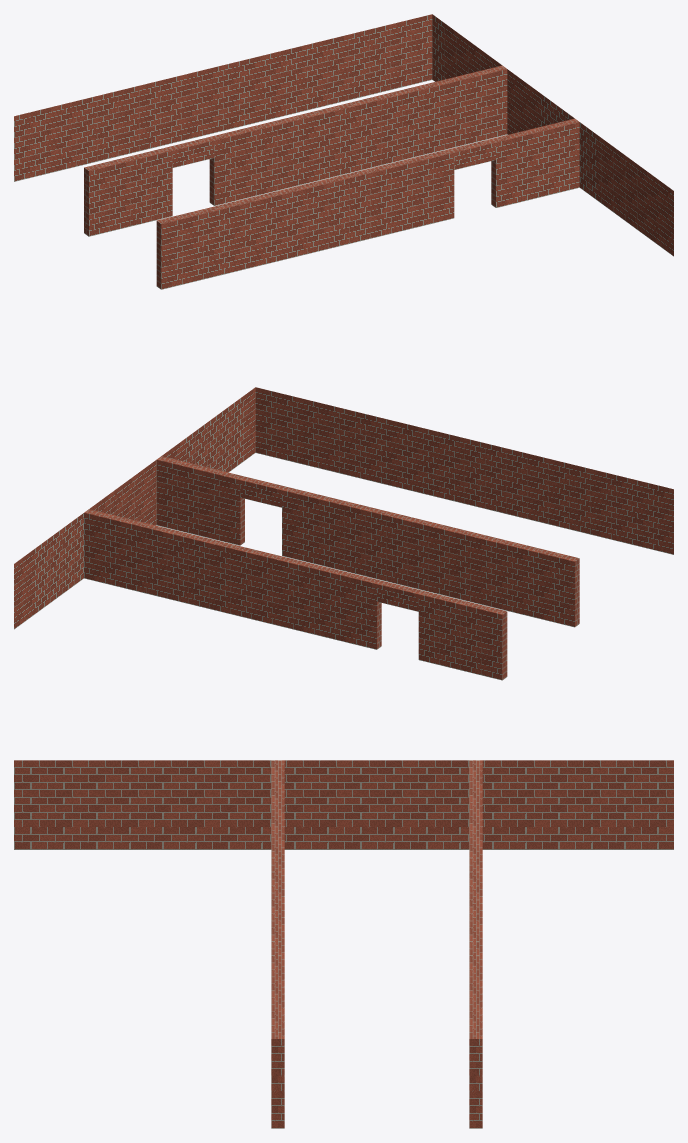
Rendered from level_walls.gltf.
3 views of the same model, one above another, from view 1: azimuth 30°, elevation 25°; view 2: azimuth 150°, elevation 25°; view 3: azimuth 270°, elevation 25° (orthographic). The views are drawn at different scales.
Parts seen in each view (by area): view 1: level_walls; view 2: level_walls; view 3: level_walls.
Part boxes in pixels (x1=…): level_walls: x1=14, y1=14, x2=673, y2=289; level_walls: x1=14, y1=387, x2=673, y2=680; level_walls: x1=14, y1=760, x2=673, y2=1128.
Bounding box in the file's own units: 20 × 3 × 20.
